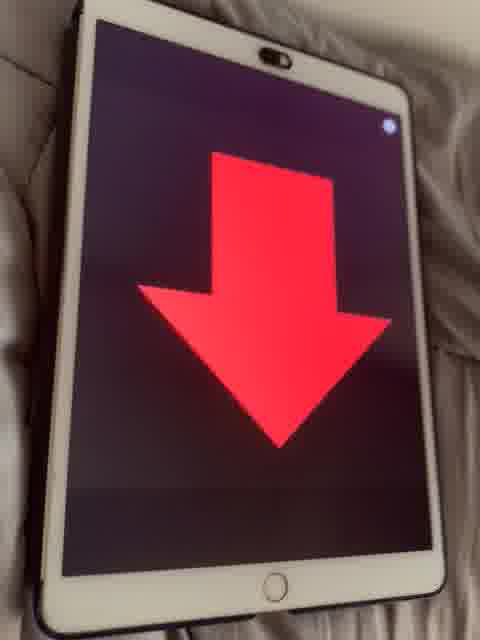down: (136, 147, 394, 455)
